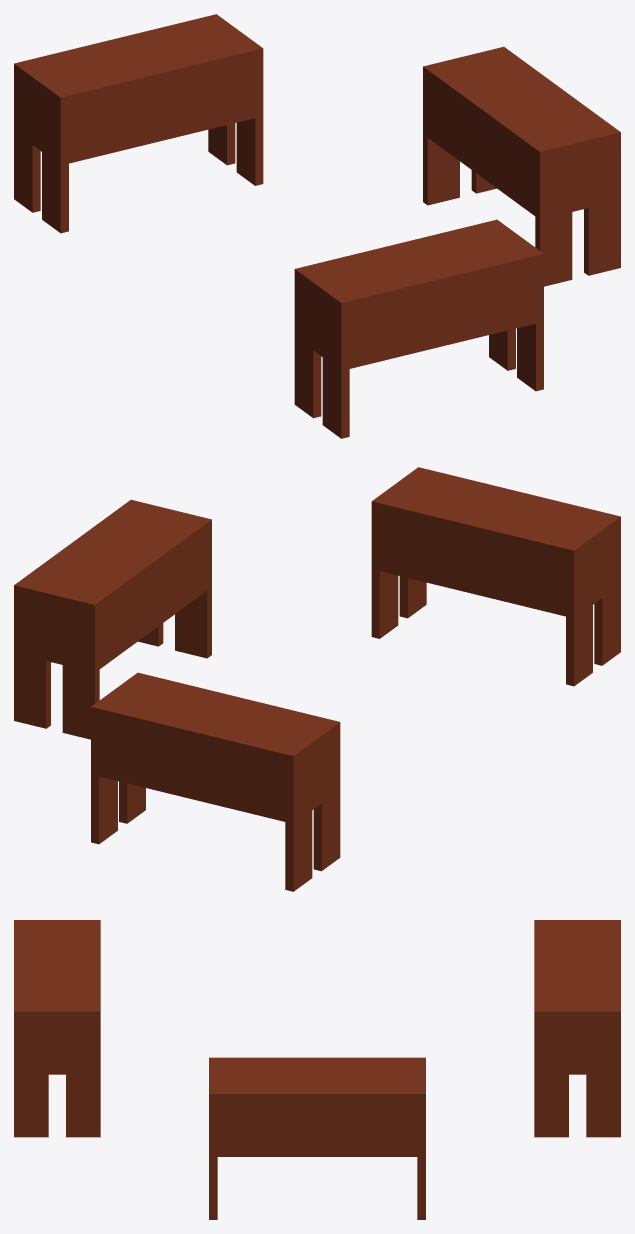
File: base_env.dae
3 views of the same model, one above another, from view 1: azimuth 30°, elevation 25°; view 2: azimuth 150°, elevation 25°; view 3: azimuth 270°, elevation 25° (orthographic). The views are drawn at different scales.
Parts seen in each view (by area): view 1: base (×14); view 2: base (×14); view 3: base (×9).
Boxes of the visible parts, bbox=[...] form: base (×14): bbox=[14, 14, 620, 438]; base (×14): bbox=[14, 467, 620, 891]; base (×9): bbox=[14, 920, 620, 1219].
Size of the model in its own units: 2.38 by 3.5 by 0.8.
